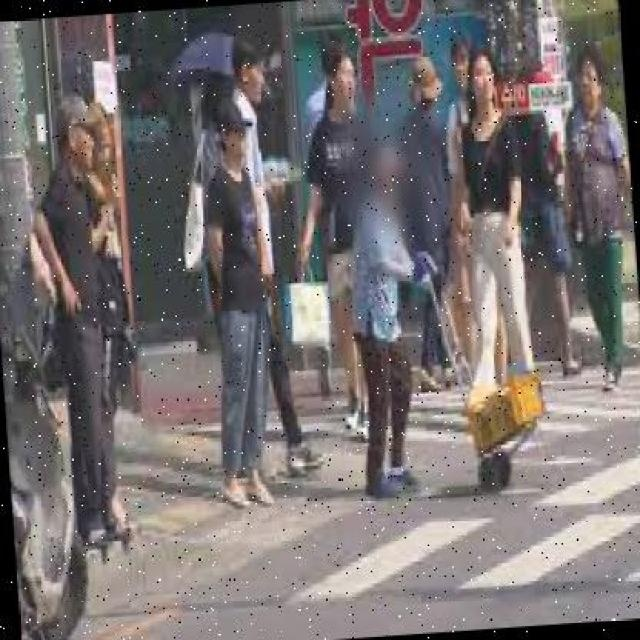obstacle: (21, 100, 124, 549), (289, 44, 382, 444), (342, 131, 444, 494), (444, 39, 542, 413), (196, 100, 282, 509), (560, 41, 638, 397)
